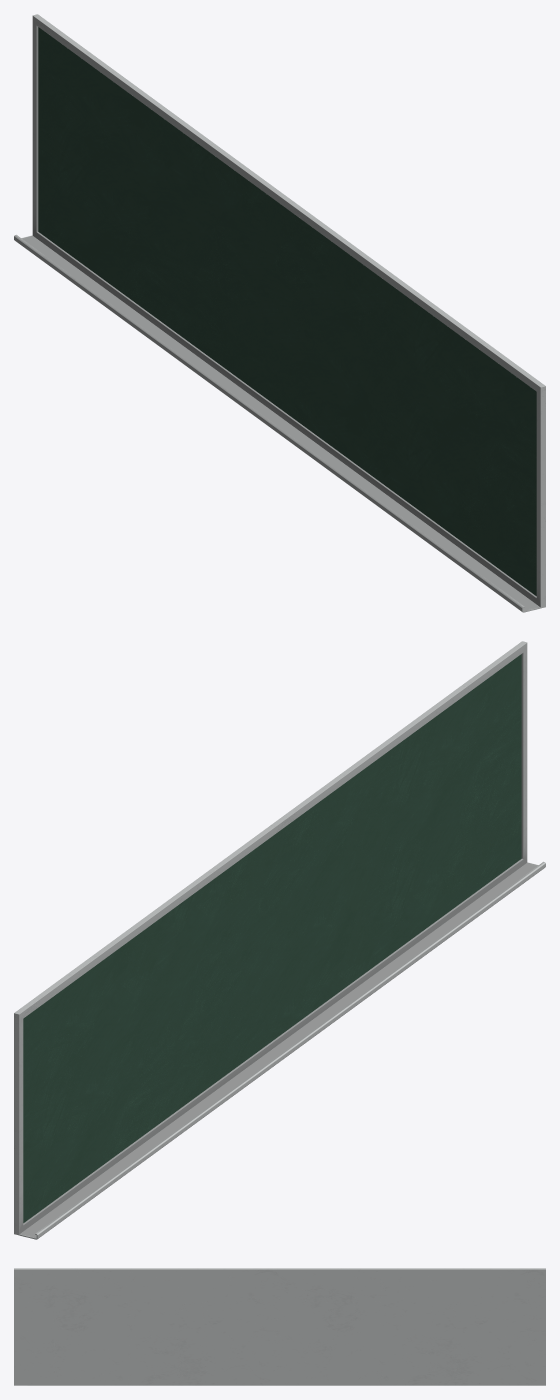
File: SM_Chalkboard_500.fbx
3 views of the same model, one above another, from view 1: azimuth 30°, elevation 25°; view 2: azimuth 150°, elevation 25°; view 3: azimuth 270°, elevation 25° (orthographic). The views are drawn at different scales.
Parts seen in each view (by area): view 1: SM_Chalkboard_500_LOD0; view 2: SM_Chalkboard_500_LOD0; view 3: SM_Chalkboard_500_LOD0.
Part boxes in pixels (<box>): SM_Chalkboard_500_LOD0: <box>14,14,545,612</box>; SM_Chalkboard_500_LOD0: <box>14,641,545,1239</box>; SM_Chalkboard_500_LOD0: <box>14,1268,545,1385</box>.
Size of the model in its own units: 13.46 by 500 by 120.
